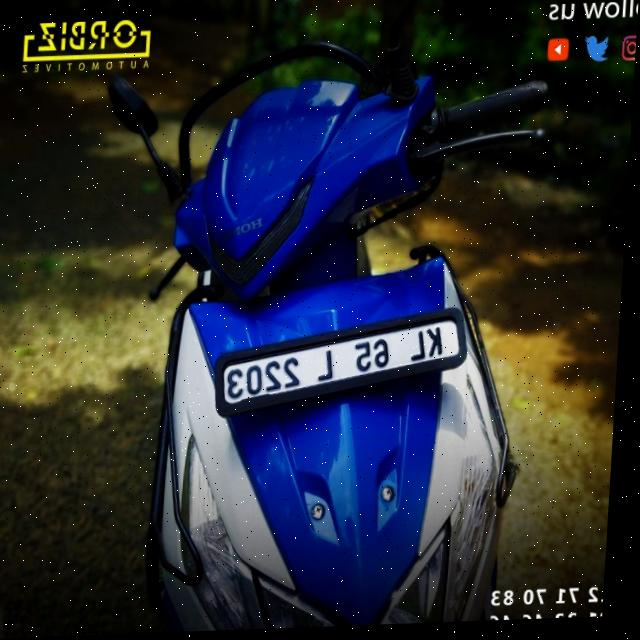plate: (213, 311, 479, 420)
